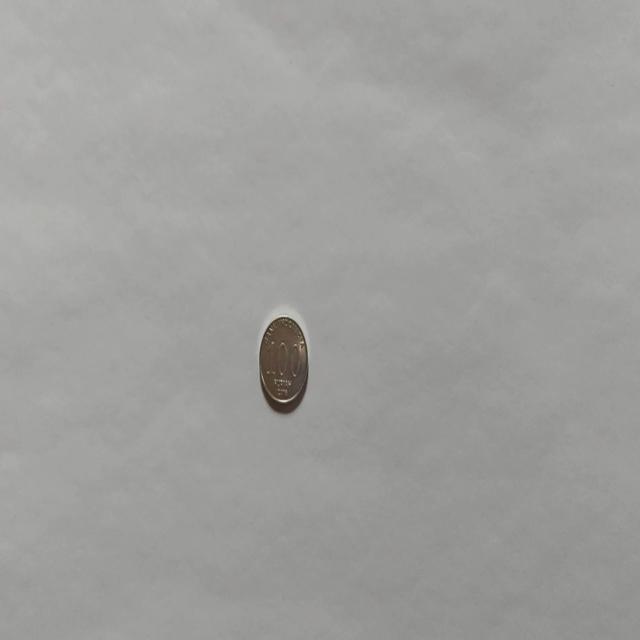seratus rupiah: (258, 312, 308, 412)
